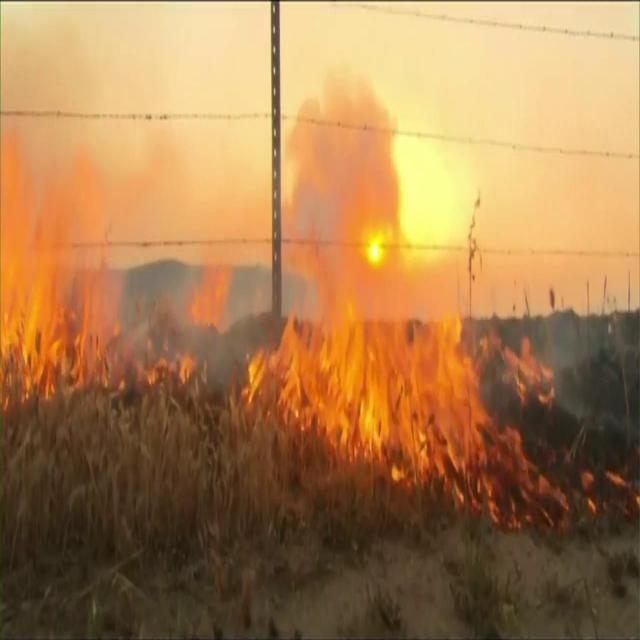Fire: (270, 260, 551, 510), (2, 134, 128, 386), (142, 341, 196, 387), (191, 260, 227, 324)
Smoke: (283, 86, 409, 258)
